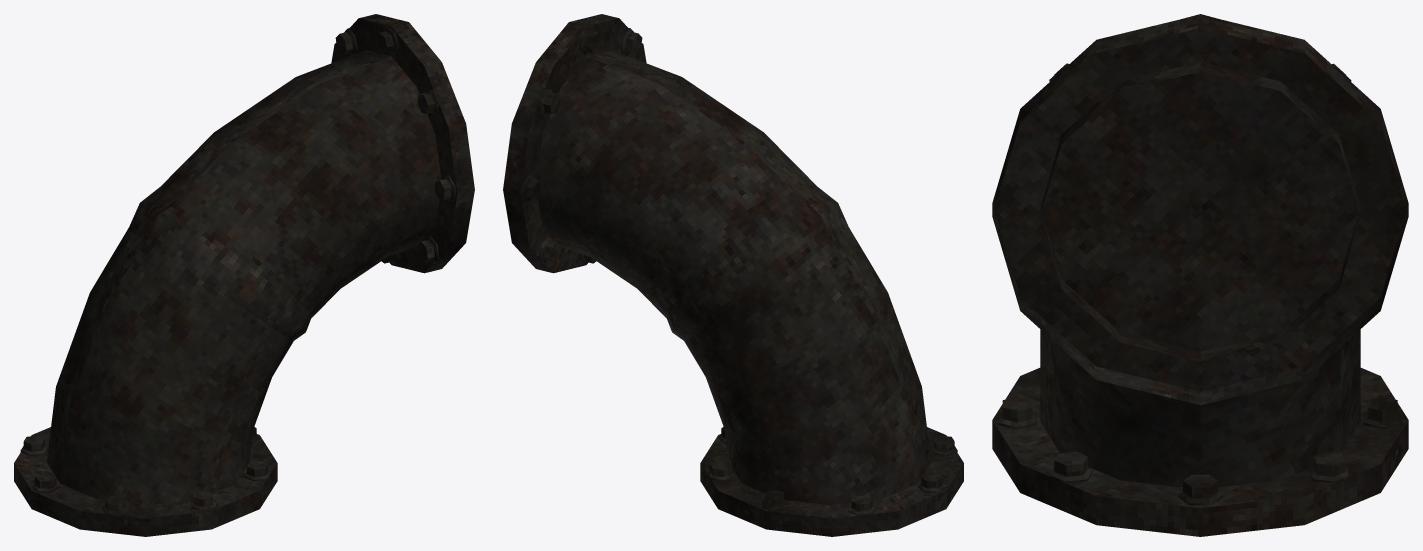
Rendered from pipe_1_corner.glb.
3 renders of one model, left to right at view 1: azimuth 30°, elevation 25°; view 2: azimuth 150°, elevation 25°; view 3: azimuth 270°, elevation 25°, orthographic. The views are drawn at different scales.
Parts seen in each view (by area): view 1: pipe_1_corner; view 2: pipe_1_corner; view 3: pipe_1_corner.
Part boxes in pixels (left/top/right/bottom): pipe_1_corner: left=14, top=14, right=474, bottom=536; pipe_1_corner: left=503, top=14, right=963, bottom=536; pipe_1_corner: left=992, top=14, right=1408, bottom=536.
Size of the model in its own units: 0.43 by 0.43 by 0.26.
Materials: 1 (1 with a texture image).
